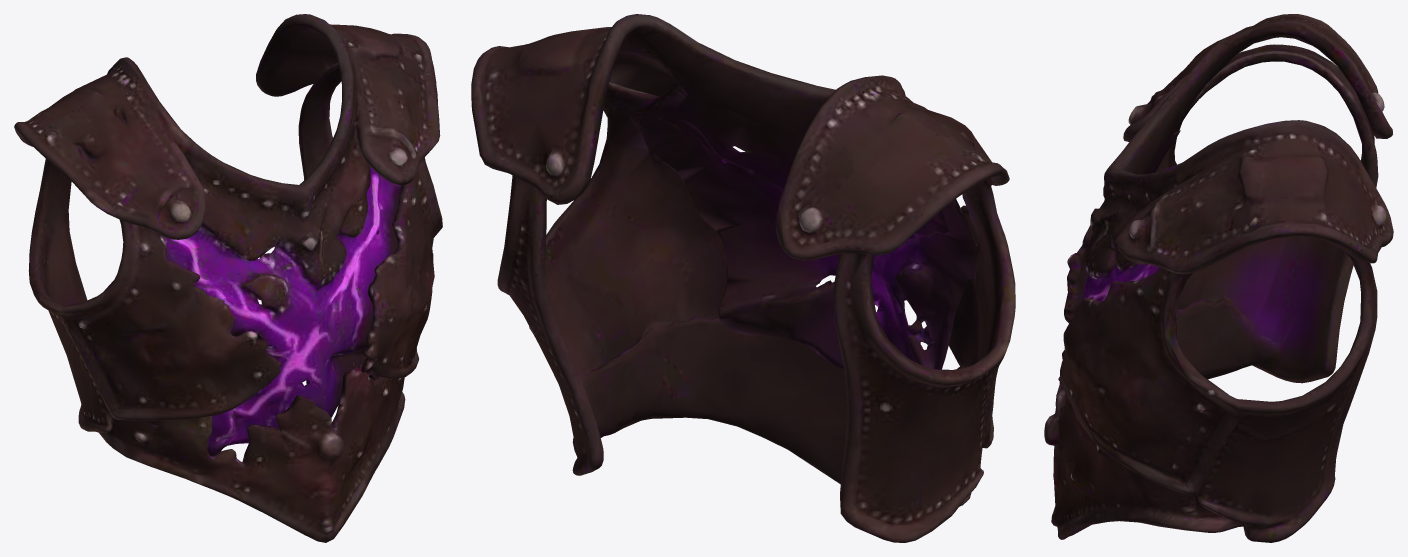
Rendered from tecelao-peitoral.glb.
3 views of the same model, side by side, from view 1: azimuth 30°, elevation 25°; view 2: azimuth 150°, elevation 25°; view 3: azimuth 270°, elevation 25° (orthographic). The views are drawn at different scales.
Parts seen in each view (by area): view 1: tripo_node_ff7ad7ed-f8a3-41b6-bdce-5ad72962fce2; view 2: tripo_node_ff7ad7ed-f8a3-41b6-bdce-5ad72962fce2; view 3: tripo_node_ff7ad7ed-f8a3-41b6-bdce-5ad72962fce2.
Part boxes in pixels (x1,y1,x2,y2): tripo_node_ff7ad7ed-f8a3-41b6-bdce-5ad72962fce2: (14,14,442,542); tripo_node_ff7ad7ed-f8a3-41b6-bdce-5ad72962fce2: (471,14,1015,542); tripo_node_ff7ad7ed-f8a3-41b6-bdce-5ad72962fce2: (1044,14,1393,542).
Bounding box in the file's own units: 0.9558 × 0.9767 × 0.6607.
1 material, 1 textured.
